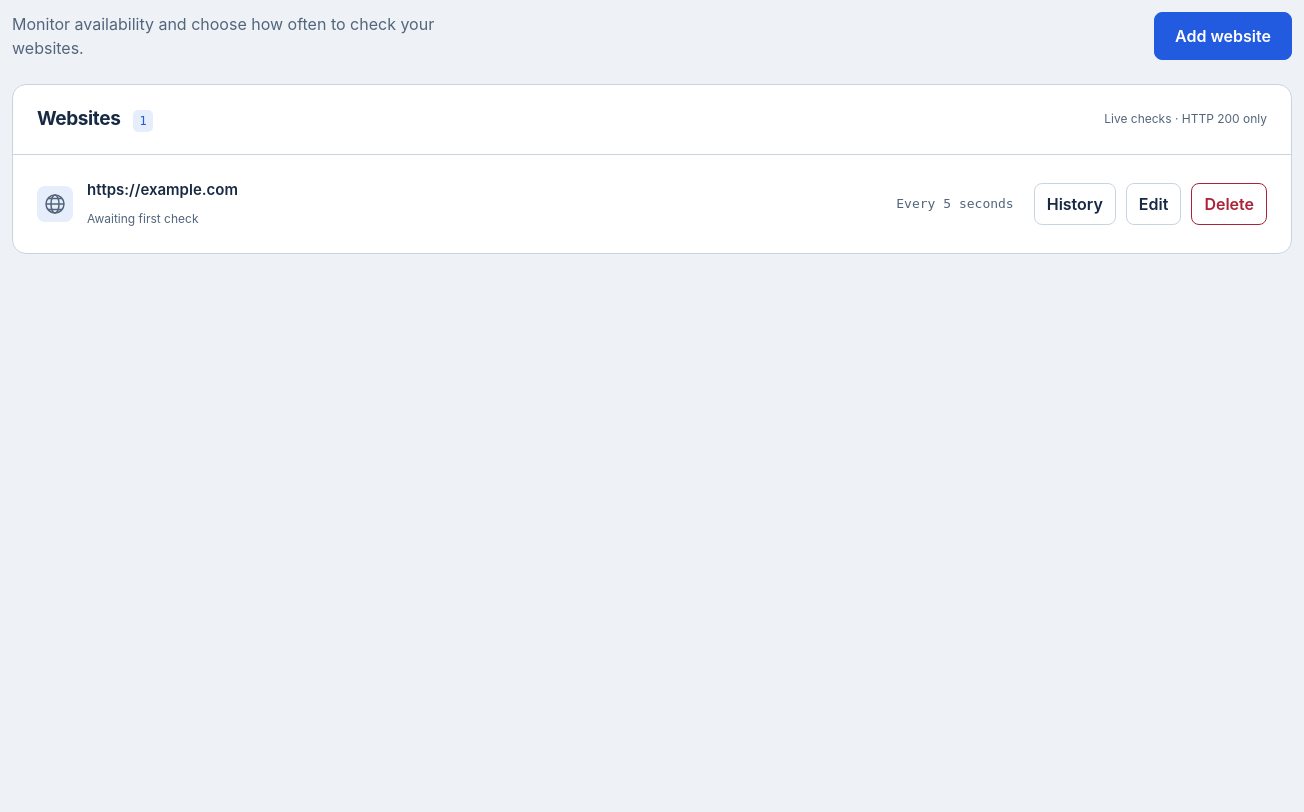
discards a status request that finishes after an edit
Click the button "Edit".
click(1154, 204)  # box [1126, 183, 1181, 225]
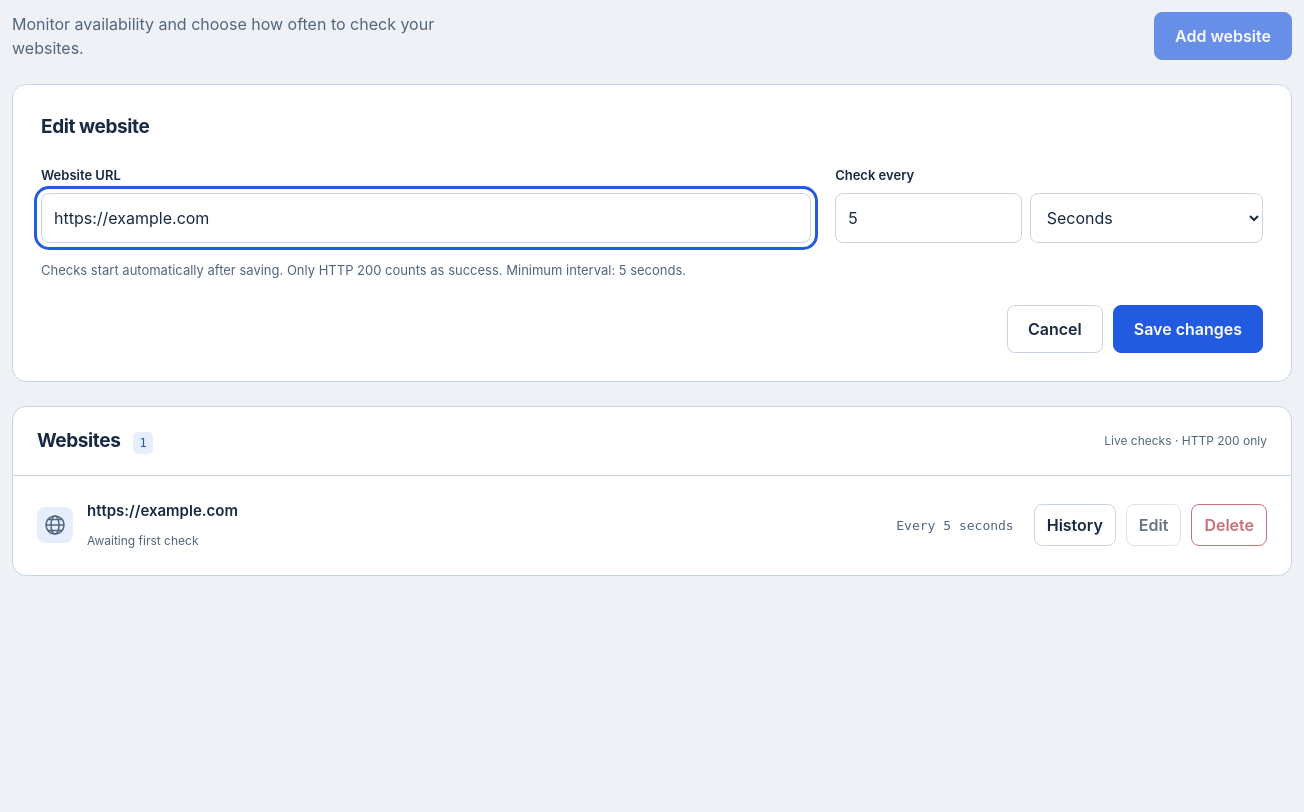
Type "https://changed.example" into the field labelled "Website URL".
click(426, 218); type("https://changed.example")  # box [41, 193, 811, 243]
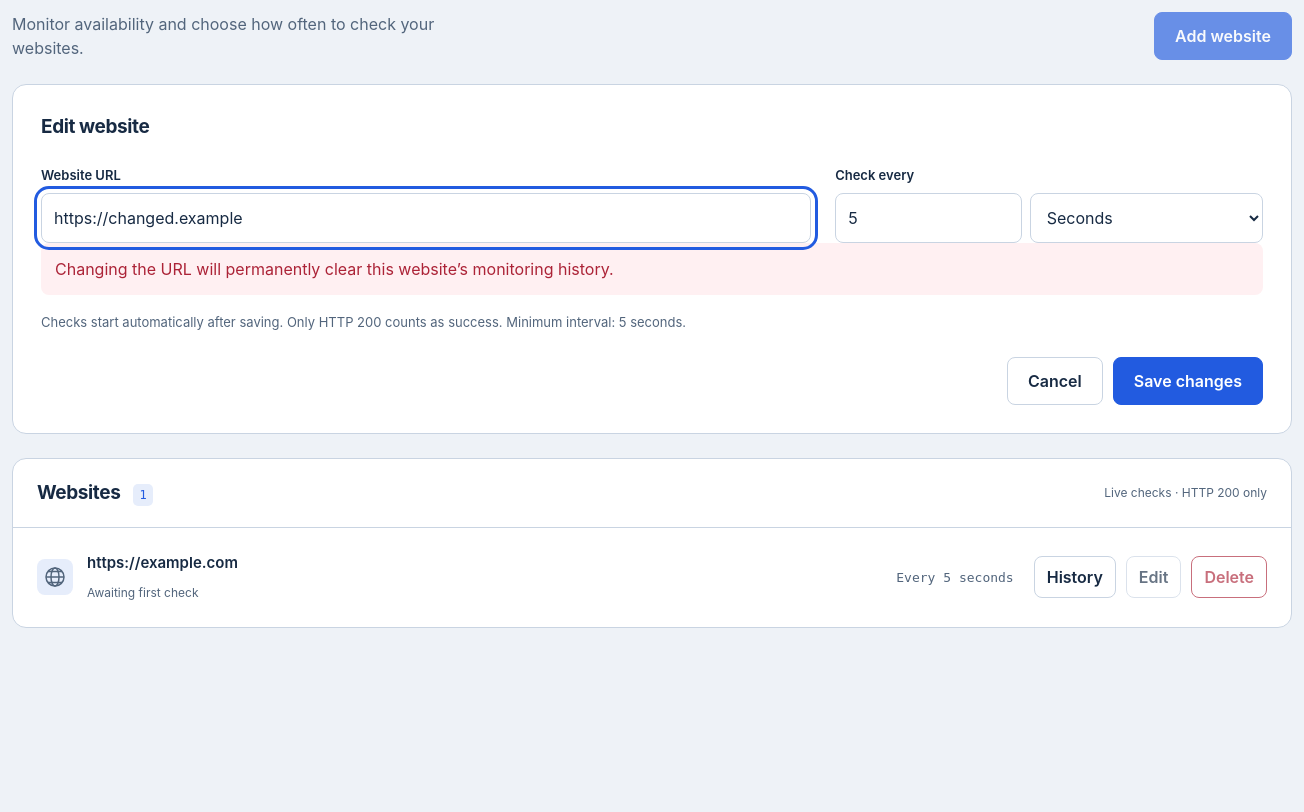
Submit the form, box [12, 84, 1292, 434]
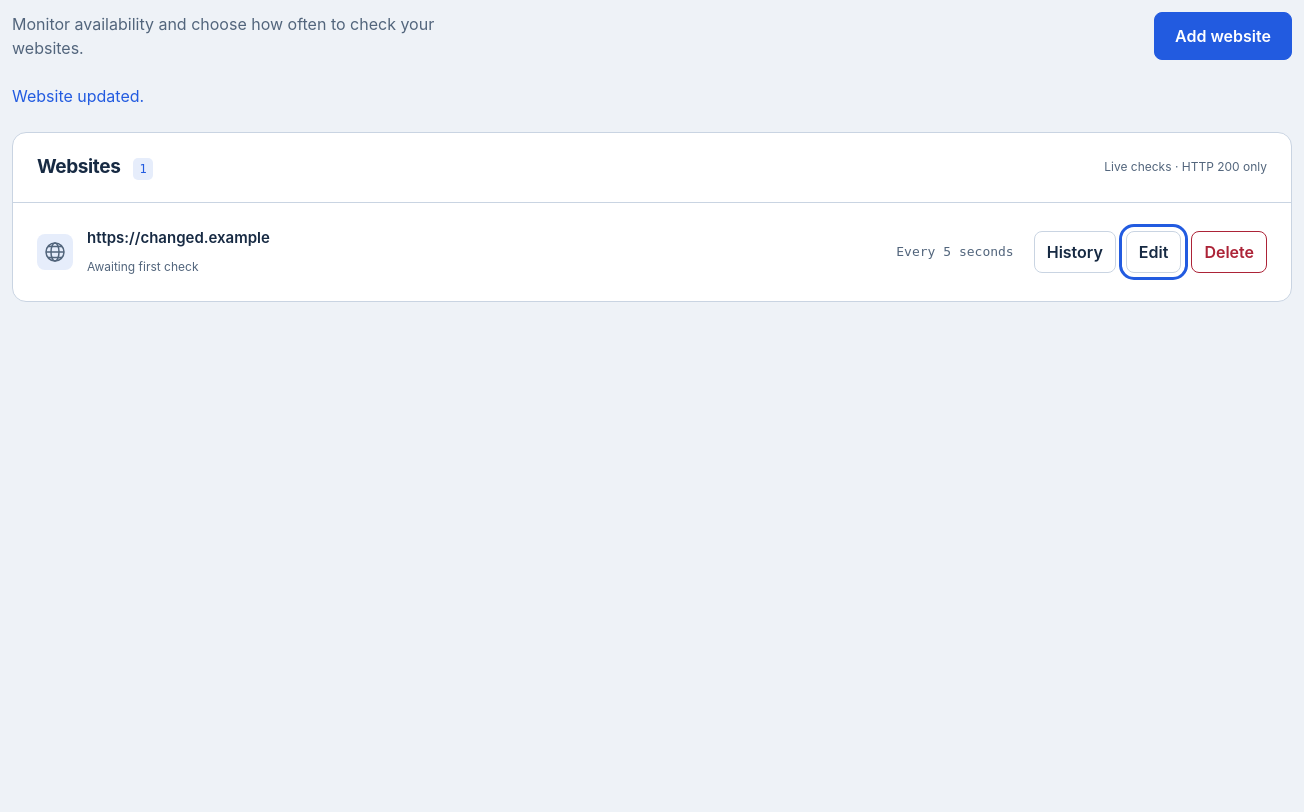
expect the text "Awaiting first check" is shown: met, box [87, 259, 198, 274]
expect the text "https://changed.example" is shown: met, box [87, 226, 270, 249]
